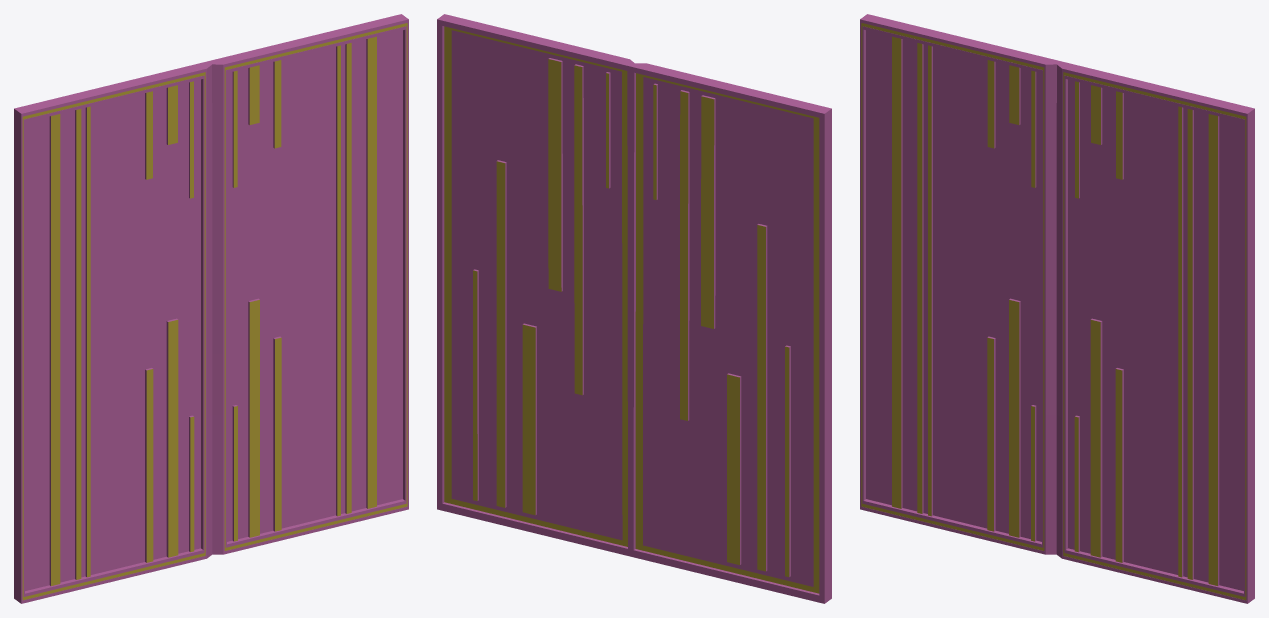
Rendered from Elevator Door.fbx.
3 views of the same model, side by side, from view 1: azimuth 30°, elevation 25°; view 2: azimuth 150°, elevation 25°; view 3: azimuth 330°, elevation 25° (orthographic).
Visible parts, largest first — view 1: Elevator Door left, Elevator Door right; view 2: Elevator Door left, Elevator Door right; view 3: Elevator Door right, Elevator Door left.
Boxes of the visible parts, x1=… form: Elevator Door left: x1=14, y1=61, x2=212, y2=603; Elevator Door right: x1=207, y1=14, x2=408, y2=554; Elevator Door left: x1=628, y1=63, x2=831, y2=603; Elevator Door right: x1=437, y1=14, x2=635, y2=556; Elevator Door right: x1=1056, y1=61, x2=1254, y2=603; Elevator Door left: x1=860, y1=14, x2=1061, y2=554.
Bounding box in the file's own units: 207 × 250 × 6.78.
